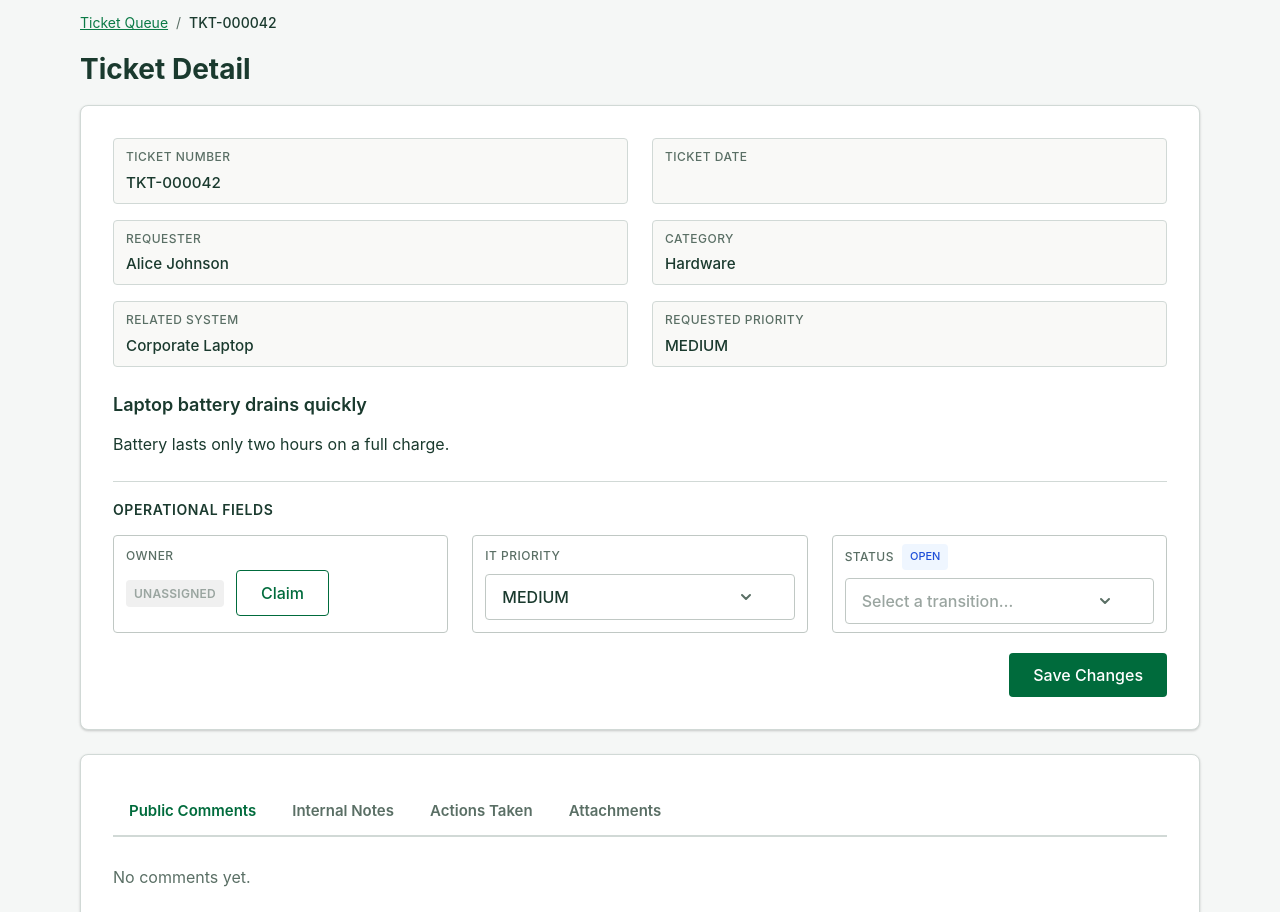
it: StaffTicketDetail (UI-07) › shows a Claim button only when unassigned; claiming assigns the caller
Expected: the element with test id "operational-panel" is shown, [113,481,1167,697]
Expected: the text with test id "owner-unassigned" reads "Unassigned", [134,586,216,601]
Click the button with test id "claim-btn".
click(282, 593)  # box [236,570,329,616]
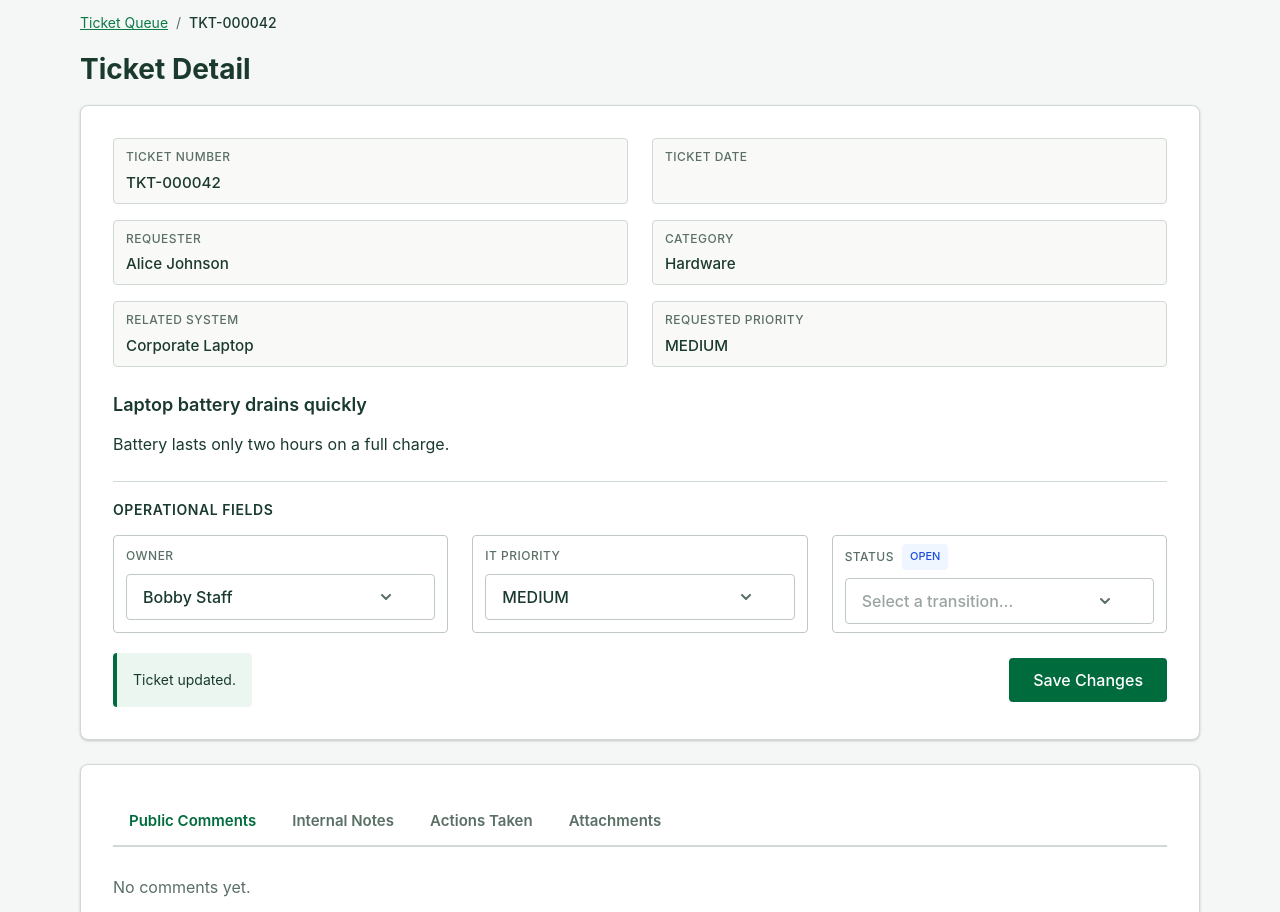
Now the button with test id "claim-btn" is gone
Now the button with test id "owner-select" is shown, box [126,574,435,620]
